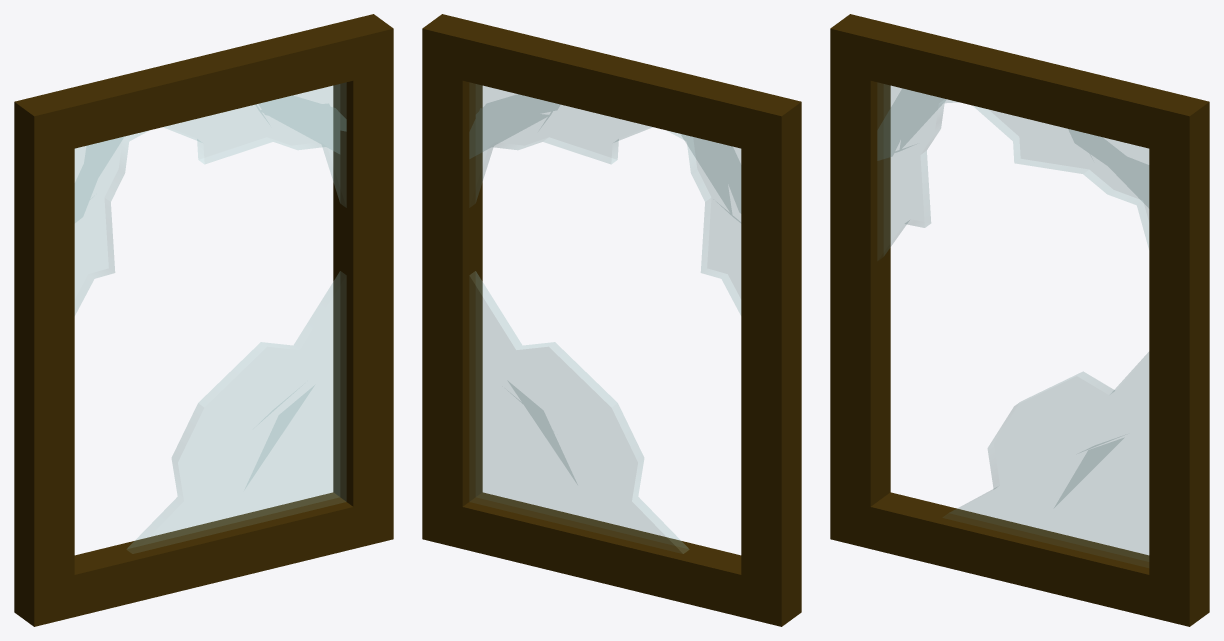
Rendered from window.fbx.
The picture shows the model from 3 angles, left to right: view 1: azimuth 30°, elevation 25°; view 2: azimuth 150°, elevation 25°; view 3: azimuth 330°, elevation 25°; orthographic projection.
Parts seen in each view (by area): view 1: pCube1, pCube2, pCube4, pCube3; view 2: pCube1, pCube2, pCube4, pCube3; view 3: pCube1, pCube2, pCube3, pCube4.
Boxes of the visible parts, x1,y1,x2,y2 form: pCube1: [14, 14, 393, 626]; pCube2: [127, 271, 345, 553]; pCube4: [163, 83, 346, 206]; pCube3: [74, 131, 147, 314]; pCube1: [422, 14, 801, 626]; pCube2: [470, 271, 688, 553]; pCube4: [469, 83, 652, 206]; pCube3: [668, 131, 741, 314]; pCube1: [830, 14, 1209, 626]; pCube2: [943, 352, 1148, 567]; pCube3: [877, 83, 957, 259]; pCube4: [973, 106, 1149, 247].
Bounding box in the file's own units: 5.47 × 7.42 × 0.5266.
